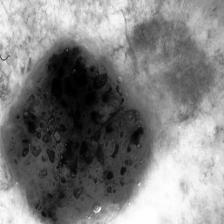Benign Marking or Mole: (0, 46, 149, 224), (132, 18, 212, 122)
